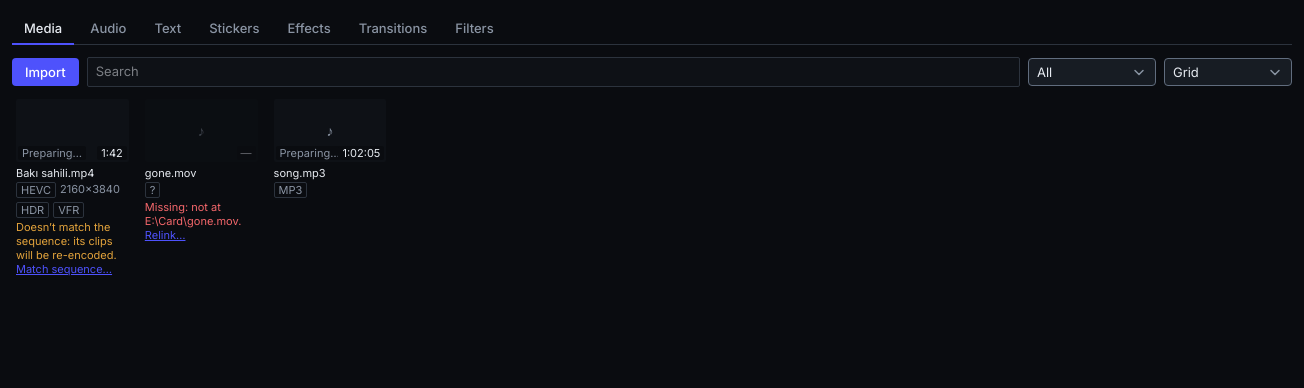
the media library › imports what the dialog chose and lists what was refused
Click the button "Import" at (45,72), box [12, 58, 79, 86]
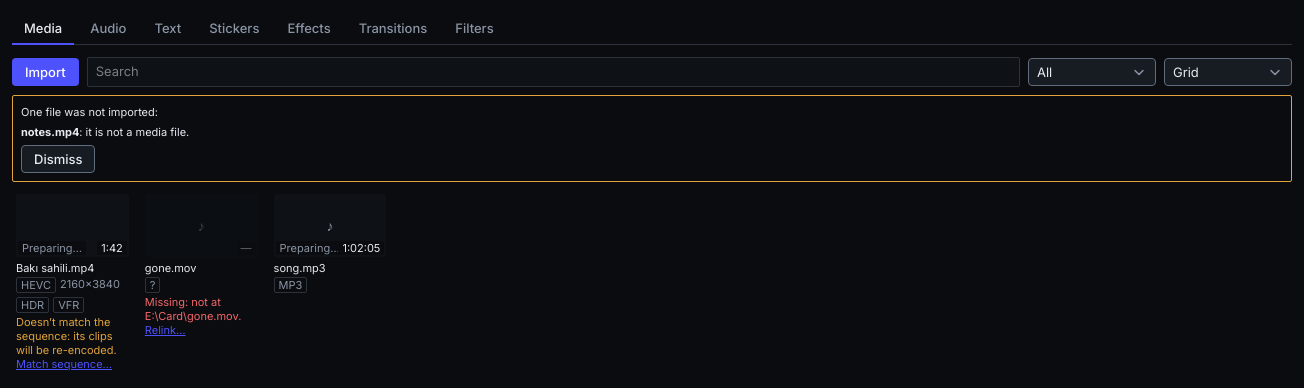
Check: the message with test id "refused" shows "notes.mp4: it is not a media file.", box [12, 94, 1292, 182]
